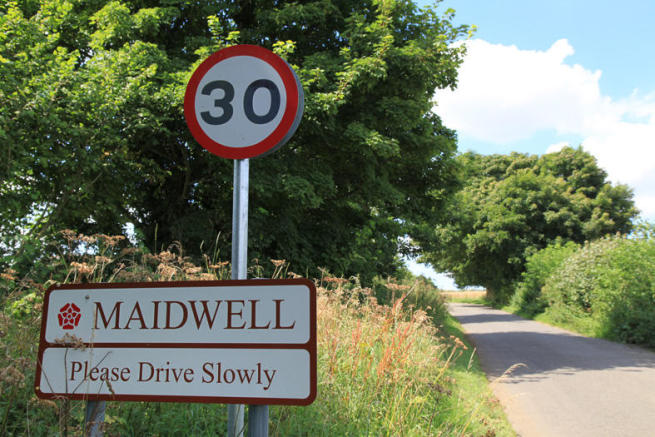Speed_limit_30km: (184, 44, 303, 160)
